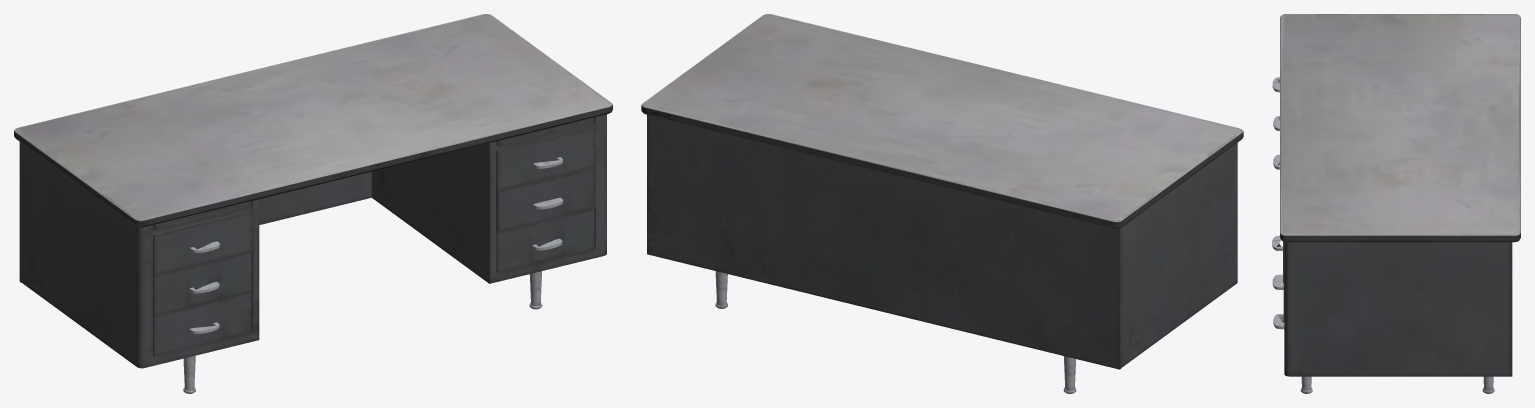
Rendered from metal_office_desk.glb.
3 renders of one model, left to right at view 1: azimuth 30°, elevation 25°; view 2: azimuth 150°, elevation 25°; view 3: azimuth 270°, elevation 25°, orthographic. The views are drawn at different scales.
Visible parts, largest first — view 1: metal_office_desk_drawer_06, metal_office_desk_drawer_06_lo; view 2: metal_office_desk_drawer_06; view 3: metal_office_desk_drawer_06, metal_office_desk_drawer_06_lo.
Part boxes in pixels (x1,y1,x2,y2): metal_office_desk_drawer_06: (14,14,612,393); metal_office_desk_drawer_06_lo: (19,117,595,356); metal_office_desk_drawer_06: (641,14,1243,393); metal_office_desk_drawer_06: (1272,14,1520,393); metal_office_desk_drawer_06_lo: (1273,15,1512,376).
Bounding box in the file's own units: 2 × 0.7874 × 0.9471.
Materials: 1 (1 with a texture image).
